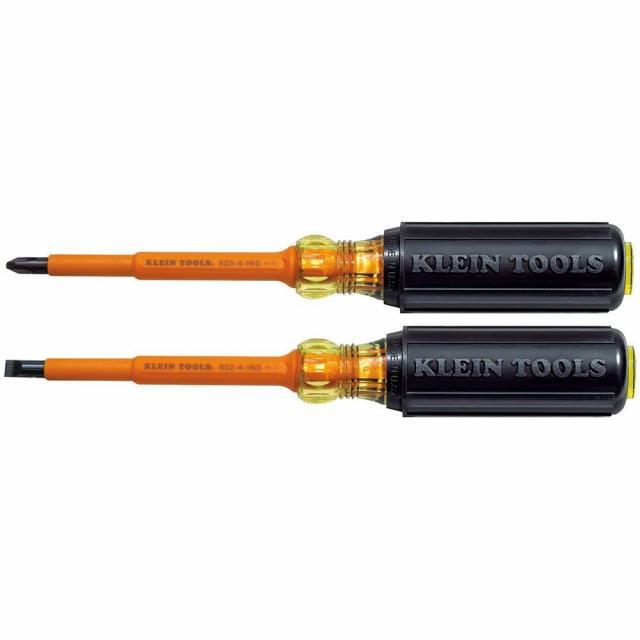screwdriver: (3, 321, 640, 420), (2, 218, 640, 316)
